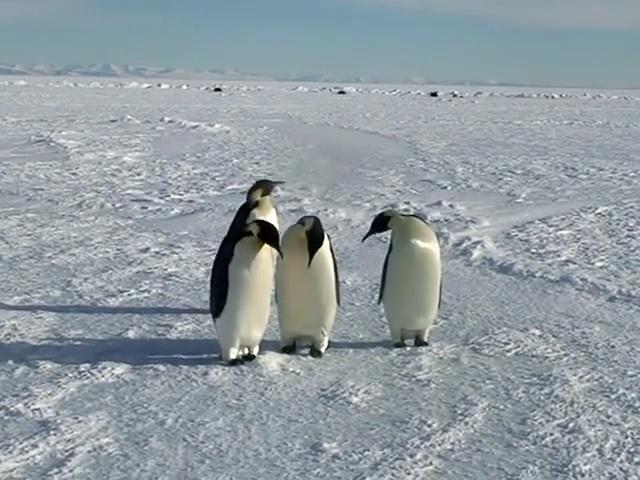animal: (364, 210, 442, 348)
